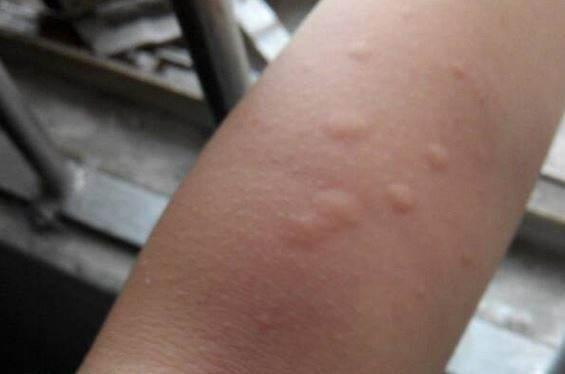Mosquito: (272, 171, 375, 266), (323, 107, 371, 142), (378, 179, 421, 218), (446, 59, 471, 89), (425, 142, 447, 170), (347, 44, 371, 63), (462, 254, 476, 268)
